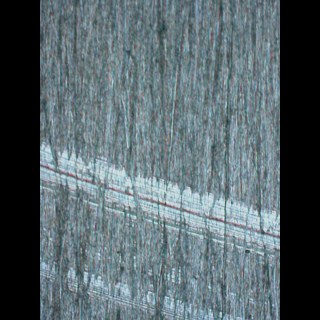d: (39, 141, 279, 261), (41, 261, 244, 319)
